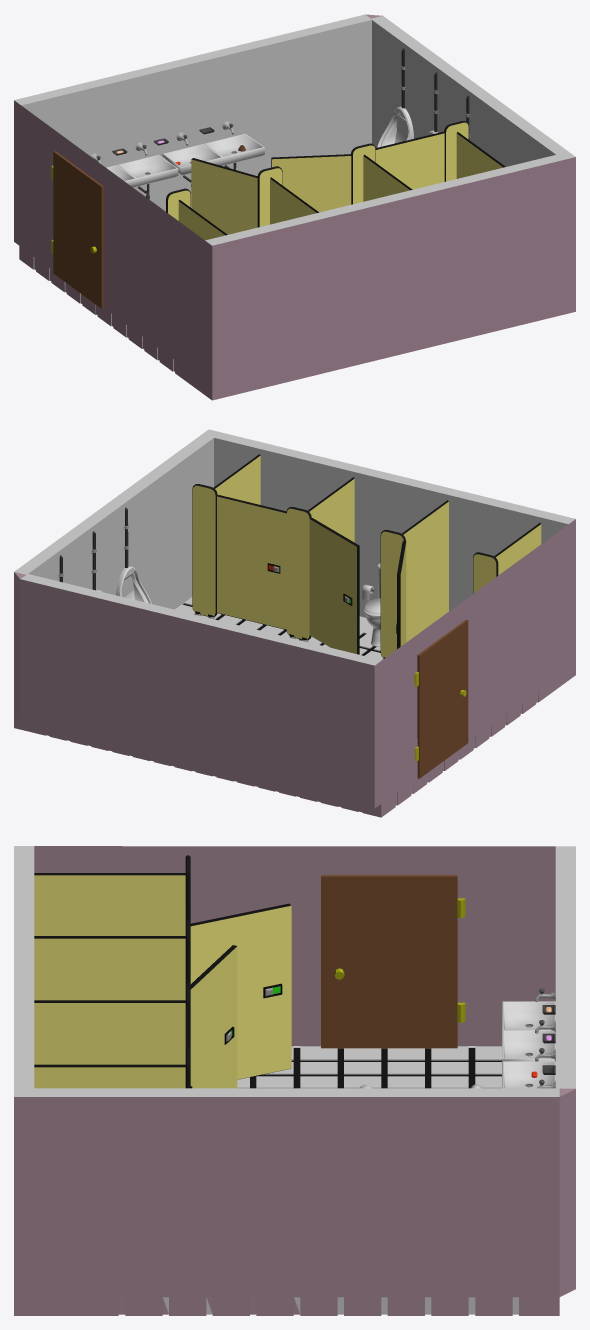
Rendered from Toilet.glb.
3 views of the same model, one above another, from view 1: azimuth 30°, elevation 25°; view 2: azimuth 150°, elevation 25°; view 3: azimuth 270°, elevation 25° (orthographic). The views are drawn at different scales.
Visible parts, largest first — view 1: toiletdemoscene, Дверь, toiletdemoscene_31, toiletdemoscene_33, toiletdemoscene_35, toiletdemoscene_46, toiletdemoscene_45, toiletdemoscene_44, toiletdemoscene_43, toiletdemoscene_41, toiletdemoscene_17, toiletdemoscene_39 (+4 smaller); view 2: toiletdemoscene, toiletdemoscene_35, Дверь, toiletdemoscene_33, toiletdemoscene_41, toiletdemoscene_40, toiletdemoscene_39, toiletdemoscene_37, toiletdemoscene_43, toiletdemoscene_44, toiletdemoscene_42, toiletdemoscene_31 (+2 smaller); view 3: toiletdemoscene, Дверь, toiletdemoscene_31, toiletdemoscene_41, toiletdemoscene_43, toiletdemoscene_42, toiletdemoscene_33, toiletdemoscene_44, toiletdemoscene_45, toiletdemoscene_46.
Boxes of the visible parts, x1,y1,x2,y2 form: toiletdemoscene: (14, 14, 575, 400); Дверь: (51, 151, 103, 308); toiletdemoscene_31: (191, 158, 257, 234); toiletdemoscene_33: (271, 154, 351, 212); toiletdemoscene_35: (375, 132, 444, 189); toiletdemoscene_46: (162, 121, 264, 186); toiletdemoscene_45: (90, 142, 178, 199); toiletdemoscene_44: (456, 132, 505, 178); toiletdemoscene_43: (363, 154, 412, 201); toiletdemoscene_41: (270, 177, 318, 224); toiletdemoscene_17: (377, 48, 413, 147); toiletdemoscene_39: (350, 143, 375, 204); toiletdemoscene: (14, 429, 575, 817); toiletdemoscene_35: (217, 495, 286, 629); Дверь: (414, 619, 468, 778); toiletdemoscene_33: (309, 518, 359, 654); toiletdemoscene_41: (402, 500, 448, 642); toiletdemoscene_40: (192, 484, 217, 619); toiletdemoscene_39: (286, 507, 311, 641); toiletdemoscene_37: (380, 530, 405, 658); toiletdemoscene_43: (308, 477, 354, 542); toiletdemoscene_44: (213, 454, 260, 504); toiletdemoscene_42: (494, 523, 541, 575); toiletdemoscene_31: (396, 541, 406, 648); toiletdemoscene: (14, 846, 575, 1315); Дверь: (321, 875, 465, 1048); toiletdemoscene_31: (190, 903, 291, 1079); toiletdemoscene_41: (34, 936, 185, 1000); toiletdemoscene_43: (34, 1000, 185, 1064); toiletdemoscene_42: (34, 873, 185, 935); toiletdemoscene_33: (190, 945, 237, 1088); toiletdemoscene_44: (34, 1064, 185, 1088); toiletdemoscene_45: (502, 988, 555, 1061); toiletdemoscene_46: (502, 1048, 555, 1088).
Size of the model in its own units: 8.83 by 3.62 by 8.24.
5 materials, 2 textured.
